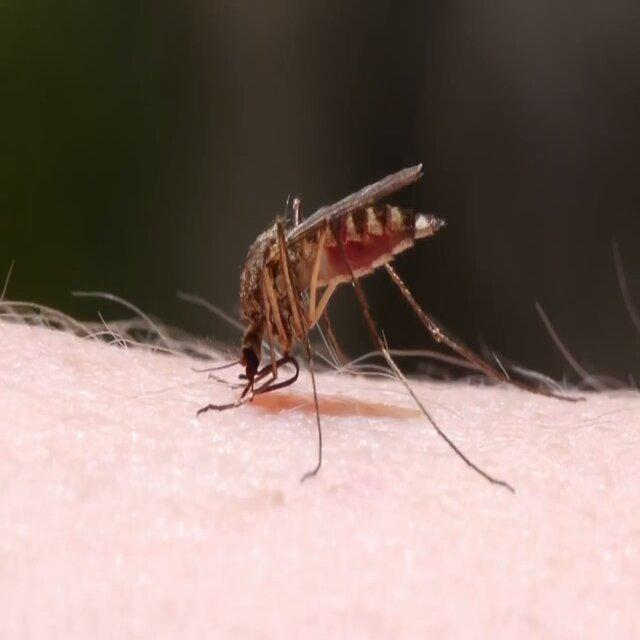mosquitos: (241, 165, 444, 381)
